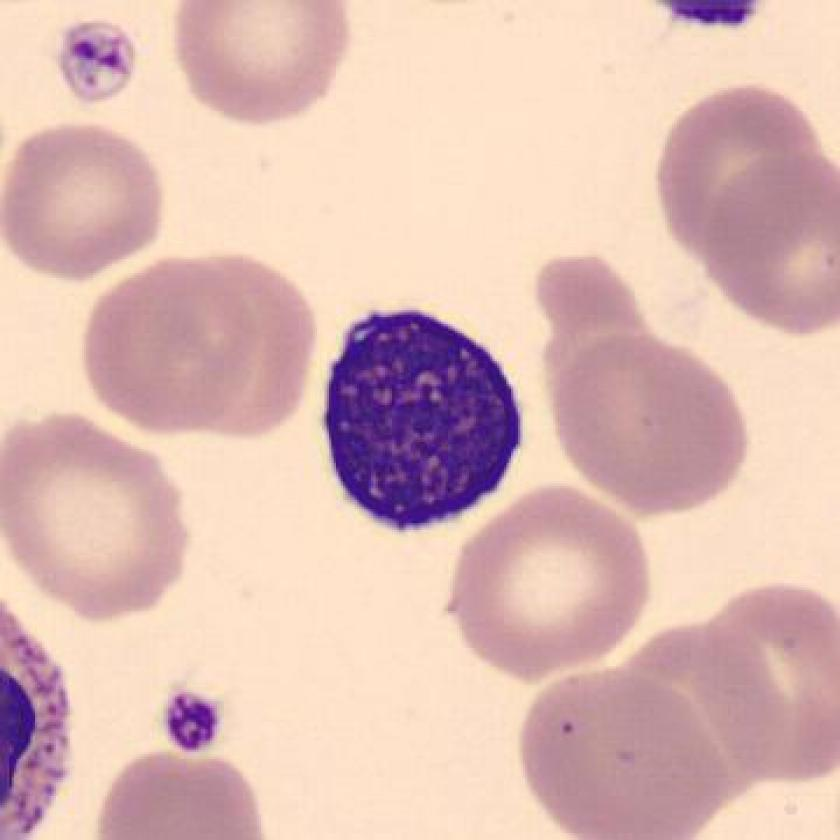lymphocyte: (304, 300, 538, 543)
